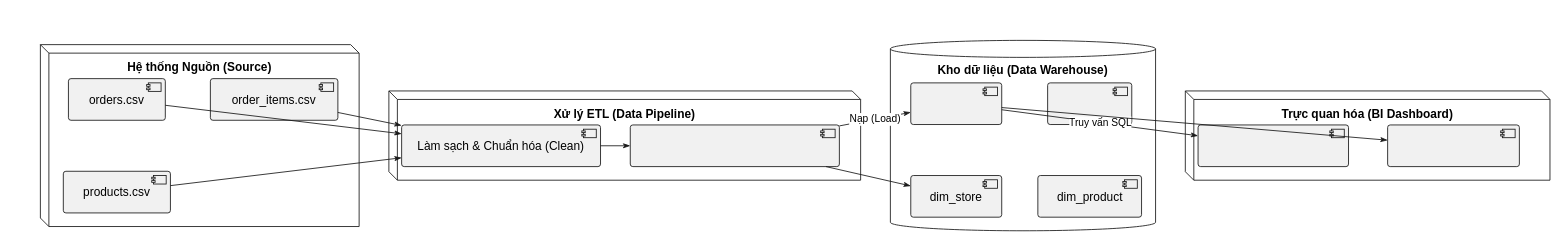
Some shapes in this 1565 by 246 pixel diagram are drawn without their labels. Each missing label, with the centre of its shape:
Báo cáo Retention: (1453,145)
Dashboard Doanh thu: (1273,145)
dim_date: (1089,103)
fact_sales: (956,103)
Khớp nối & Biến đổi (Transform): (734,145)
